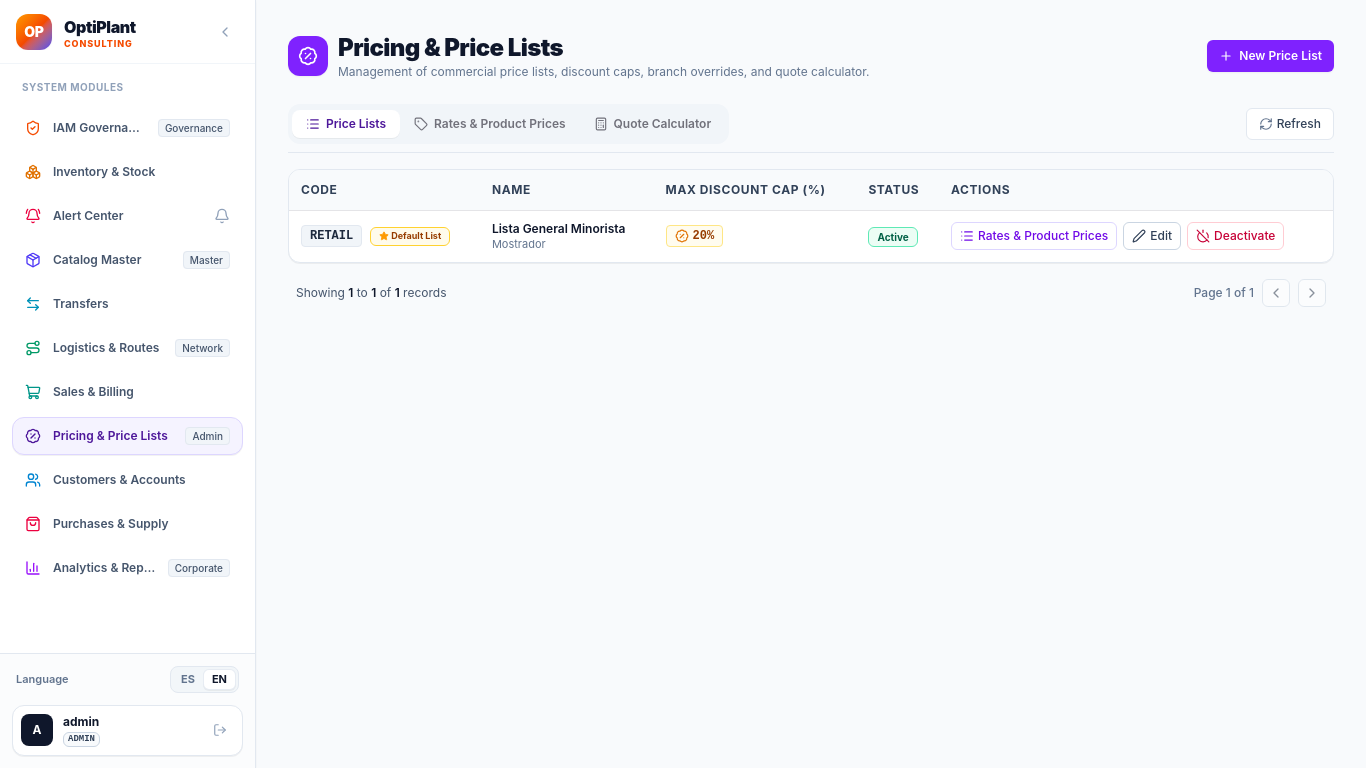
PricingDashboard Component Tests › switches to rates tab and displays product prices
Click the tab "Rates & Product Prices" at (490, 124), box [400, 110, 580, 138]
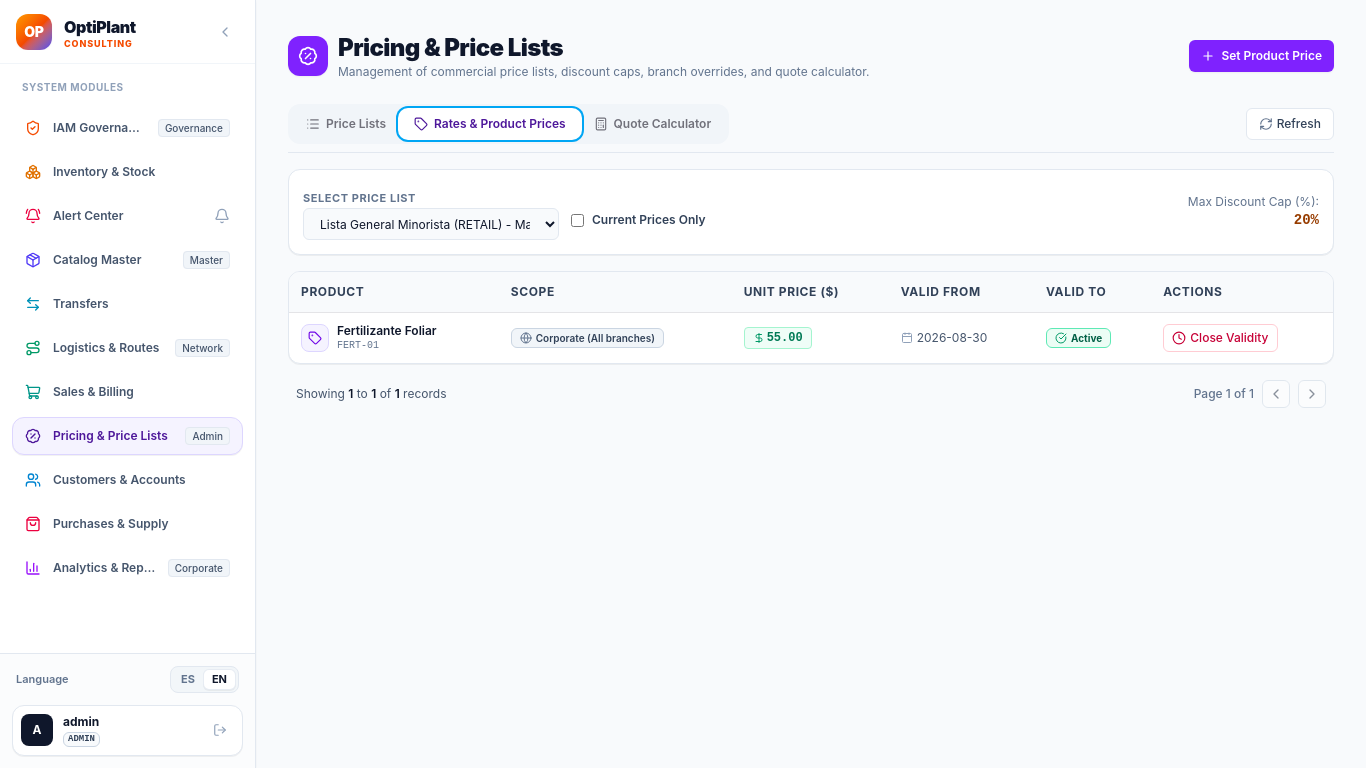
Check: the text "Fertilizante Foliar" is shown, box [337, 322, 437, 338]
Check: the text "55.00" is shown, box [767, 330, 803, 346]
